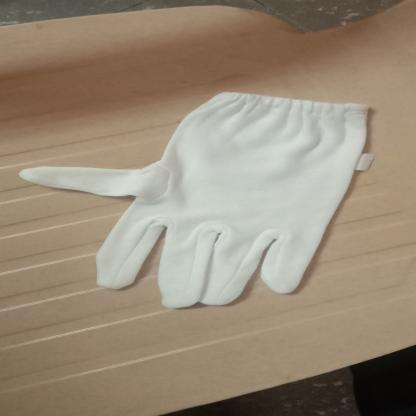gloved_hand: (13, 87, 382, 312)
